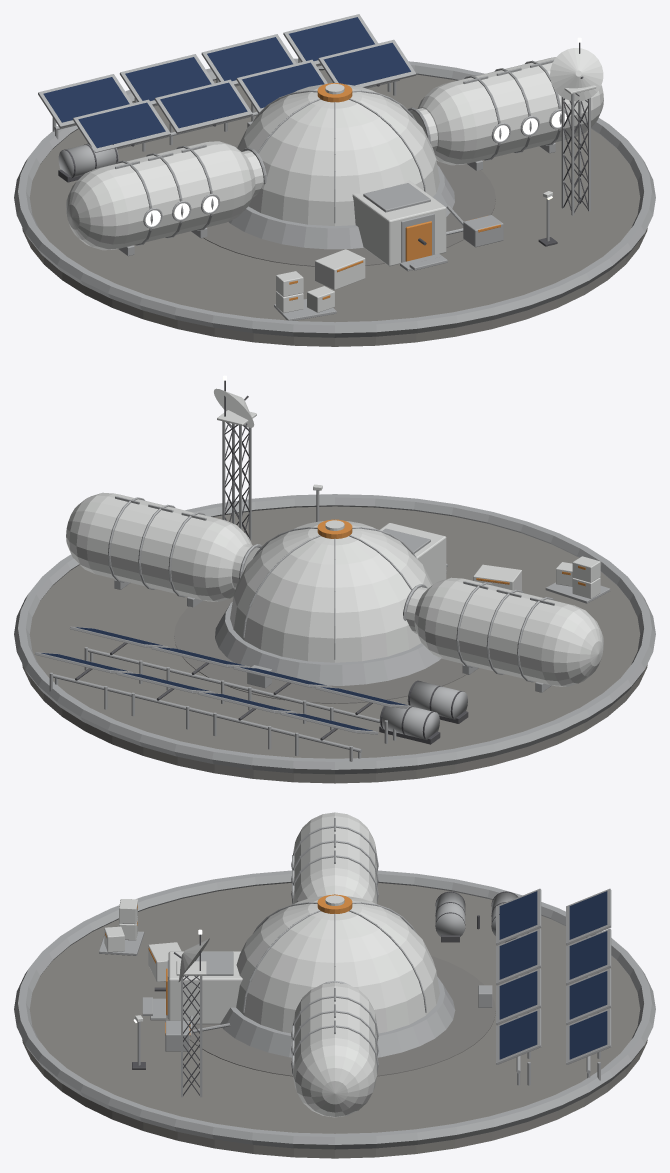
Rendered from 月球基地.fbx.
3 views of the same model, one above another, from view 1: azimuth 30°, elevation 25°; view 2: azimuth 150°, elevation 25°; view 3: azimuth 270°, elevation 25° (orthographic).
Visible parts, largest first — view 1: GEO-platform, GEO-dome, GEO-platform_rim, GEO-habA_body, GEO-habB_body, GEO-pad_mark, GEO-habA_capL, GEO-vestibule, GEO-dome_base, GEO-habB_capL, GEO-pv2_glass, GEO-pv1_glass (+27 smaller); view 2: GEO-platform, GEO-dome, GEO-platform_rim, GEO-habB_body, GEO-habA_body, GEO-pad_mark, GEO-dome_base, GEO-habA_capL, GEO-habB_capL, GEO-habB_capR, GEO-habA_capR, GEO-tank0 (+7 smaller); view 3: GEO-platform, GEO-platform_rim, GEO-dome, GEO-pad_mark, GEO-habB_capR, GEO-dome_base, GEO-habB_body, GEO-habA_body, GEO-vestibule, GEO-habA_capR, GEO-pv1_glass, GEO-pv4_glass (+19 smaller).
Boxes of the visible parts, box(x1,y1,x2,y2) form: GEO-platform: box(22, 70, 647, 346); GEO-dome: box(237, 84, 439, 226); GEO-platform_rim: box(14, 58, 655, 337); GEO-habA_body: box(100, 142, 234, 248); GEO-habB_body: box(447, 57, 583, 163); GEO-pad_mark: box(203, 144, 495, 266); GEO-habA_capL: box(66, 168, 128, 250); GEO-vestibule: box(352, 180, 446, 266); GEO-dome_base: box(228, 165, 454, 249); GEO-habB_capL: box(417, 83, 476, 165); GEO-pv2_glass: box(160, 82, 247, 128); GEO-pv1_glass: box(78, 102, 165, 148); GEO-platform: box(22, 506, 647, 783); GEO-dome: box(230, 521, 432, 662); GEO-platform_rim: box(14, 494, 655, 774); GEO-habB_body: box(86, 493, 221, 599); GEO-habA_body: box(435, 578, 571, 684); GEO-pad_mark: box(174, 597, 466, 703); GEO-dome_base: box(215, 602, 441, 685); GEO-habA_capL: box(541, 604, 603, 686); GEO-habB_capL: box(192, 519, 252, 601); GEO-habB_capR: box(66, 492, 113, 573); GEO-habA_capR: box(414, 577, 461, 658); GEO-tank0: box(407, 680, 467, 719); GEO-platform: box(22, 883, 647, 1158); GEO-platform_rim: box(14, 870, 655, 1149); GEO-dome: box(236, 896, 439, 1033); GEO-pad_mark: box(189, 956, 495, 1076); GEO-habB_capR: box(293, 1038, 376, 1117); GEO-dome_base: box(220, 977, 455, 1057); GEO-habB_body: box(293, 986, 376, 1074); GEO-habA_body: box(293, 816, 376, 903); GEO-vestibule: box(168, 951, 242, 1024); GEO-habA_capR: box(293, 868, 376, 903); GEO-pv1_glass: box(499, 891, 537, 939); GEO-pv4_glass: box(499, 1011, 537, 1059).
Size of what is drawn, in the model's own units: 36.7 by 11.45 by 36.7.
